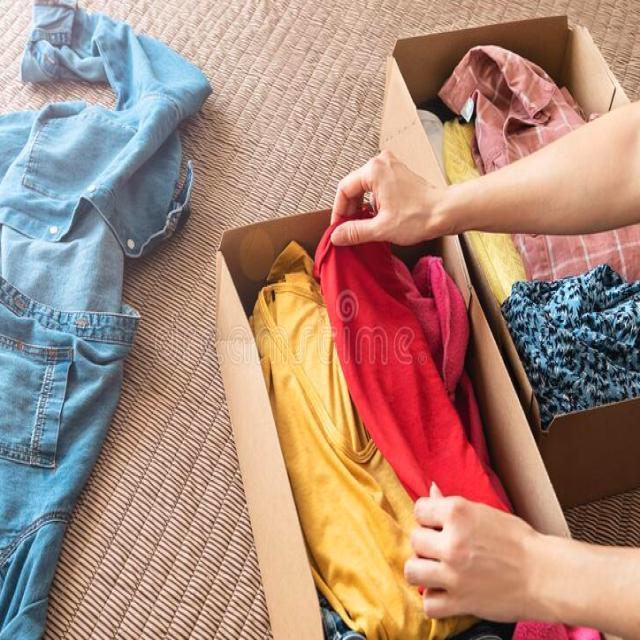clothes: (0, 114, 154, 596)
